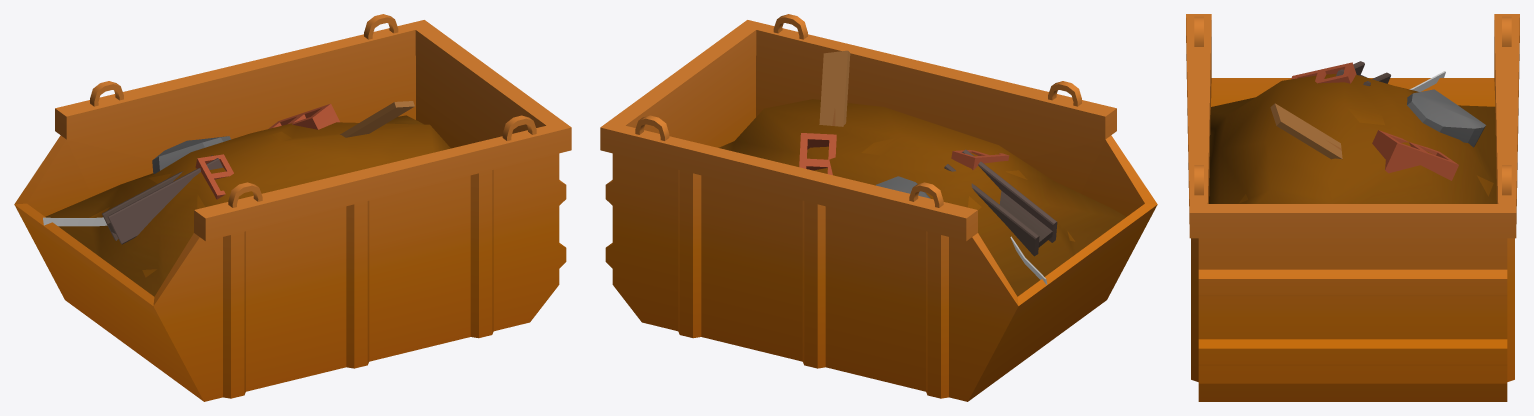
Rendered from RubbleContainer_B_2.fbx.
3 renders of one model, left to right at view 1: azimuth 30°, elevation 25°; view 2: azimuth 150°, elevation 25°; view 3: azimuth 270°, elevation 25°, orthographic. The views are drawn at different scales.
Visible parts, largest first — view 1: RubbleContainer_B_2; view 2: RubbleContainer_B_2; view 3: RubbleContainer_B_2.
Part boxes in pixels (x1=…): RubbleContainer_B_2: x1=14, y1=14, x2=571, y2=401; RubbleContainer_B_2: x1=600, y1=14, x2=1157, y2=401; RubbleContainer_B_2: x1=1186, y1=14, x2=1519, y2=401.
Size of the model in its own units: 413 by 210 by 260.
